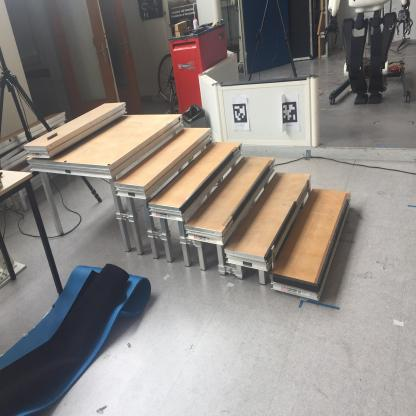Stairs: (271, 190, 352, 301), (225, 173, 310, 272), (150, 142, 242, 224), (186, 158, 275, 242), (115, 128, 215, 201), (25, 104, 128, 158)
